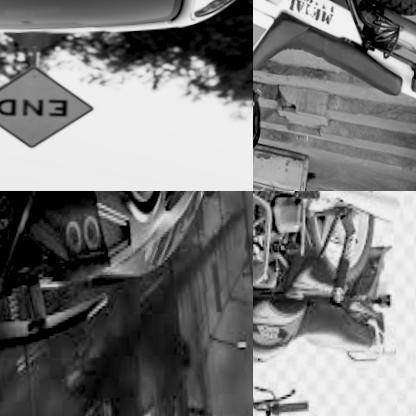bike: (253, 191, 405, 416), (253, 0, 416, 158)
car: (0, 191, 247, 355)
